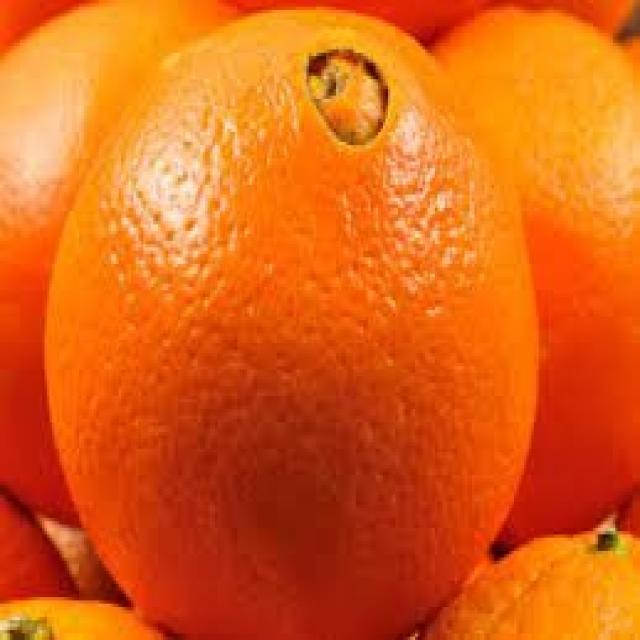Good_Orange: (44, 7, 541, 640)
